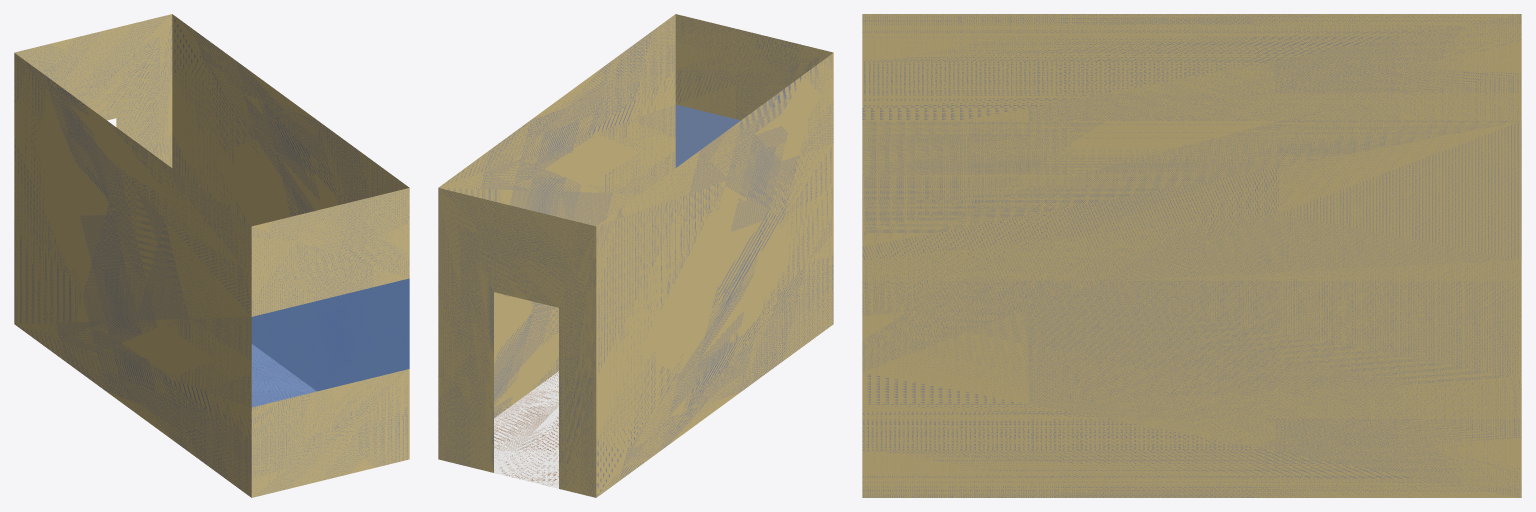
The model's file is CUA013.obj.
3 views of the same model, side by side, from view 1: azimuth 30°, elevation 25°; view 2: azimuth 150°, elevation 25°; view 3: azimuth 270°, elevation 25° (orthographic). The views are drawn at different scales.
Parts seen in each view (by area): view 1: Mesh1 CUA013 Model; view 2: Mesh1 CUA013 Model; view 3: Mesh1 CUA013 Model.
Part boxes in pixels (x1=…): Mesh1 CUA013 Model: x1=14, y1=14, x2=409, y2=497; Mesh1 CUA013 Model: x1=438, y1=14, x2=833, y2=497; Mesh1 CUA013 Model: x1=862, y1=14, x2=1521, y2=497.
Size of the model in its own units: 1.84 by 3.02 by 4.78.
Materials: 5 (1 with a texture image).
